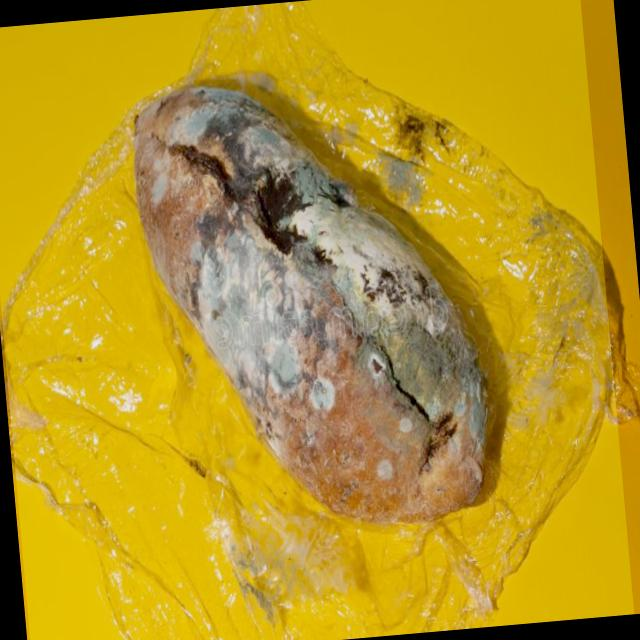Food waste: (134, 89, 503, 517)
Plastic film: (7, 0, 615, 640)
